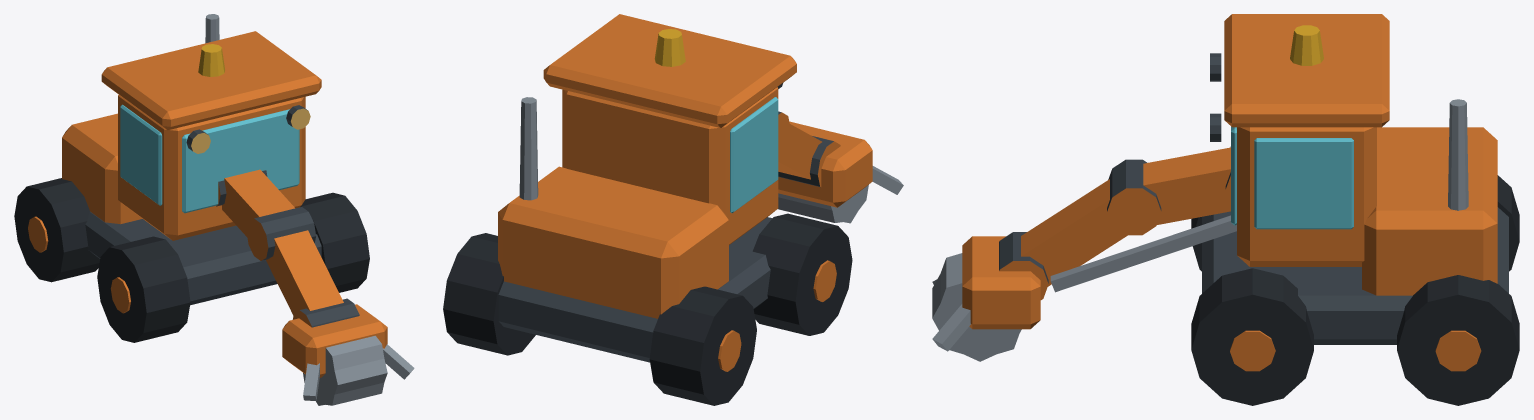
The model's file is machine_mini.glb.
3 views of the same model, side by side, from view 1: azimuth 30°, elevation 25°; view 2: azimuth 150°, elevation 25°; view 3: azimuth 270°, elevation 25° (orthographic). The views are drawn at different scales.
Visible parts, largest first — view 1: part_001_machine_mini; view 2: part_001_machine_mini; view 3: part_001_machine_mini.
Boxes of the visible parts, x1=… form: part_001_machine_mini: x1=14, y1=14, x2=414, y2=405; part_001_machine_mini: x1=443, y1=14, x2=903, y2=405; part_001_machine_mini: x1=932, y1=14, x2=1519, y2=405.
Size of the model in its own units: 1.87 by 2 by 3.37.
